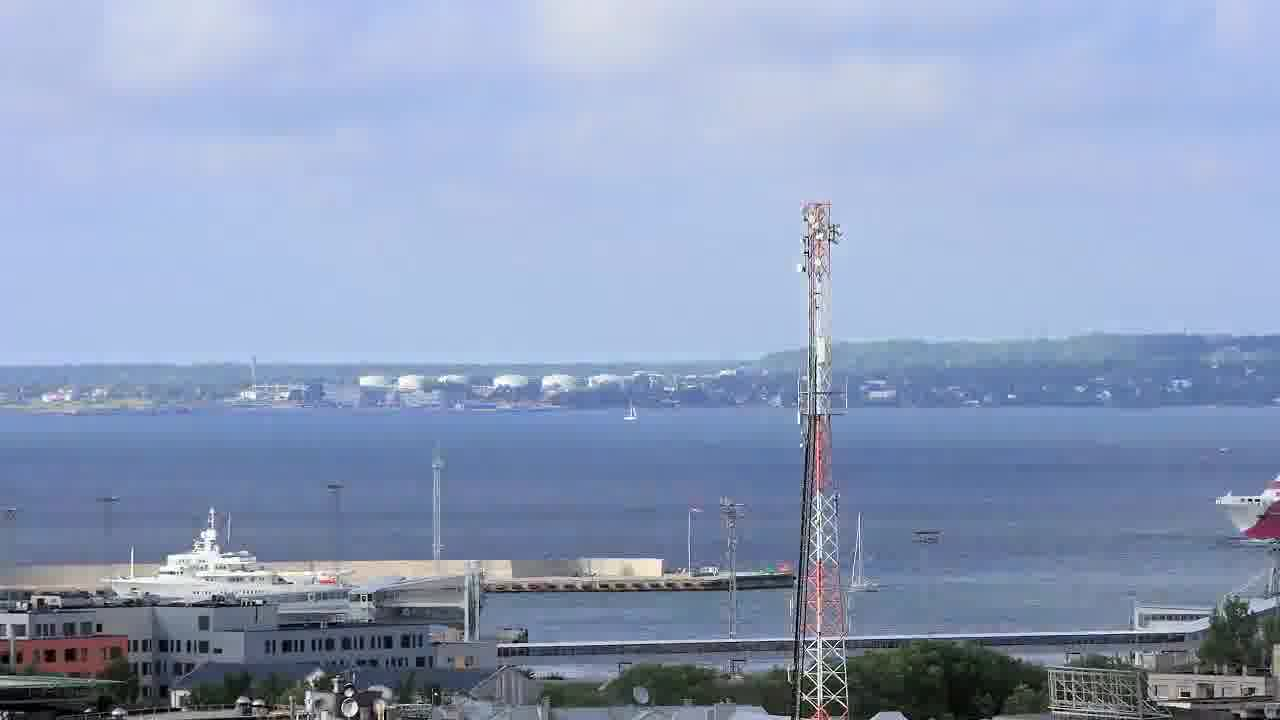type-0: (843, 539, 885, 595)
type-3: (96, 508, 381, 605)
